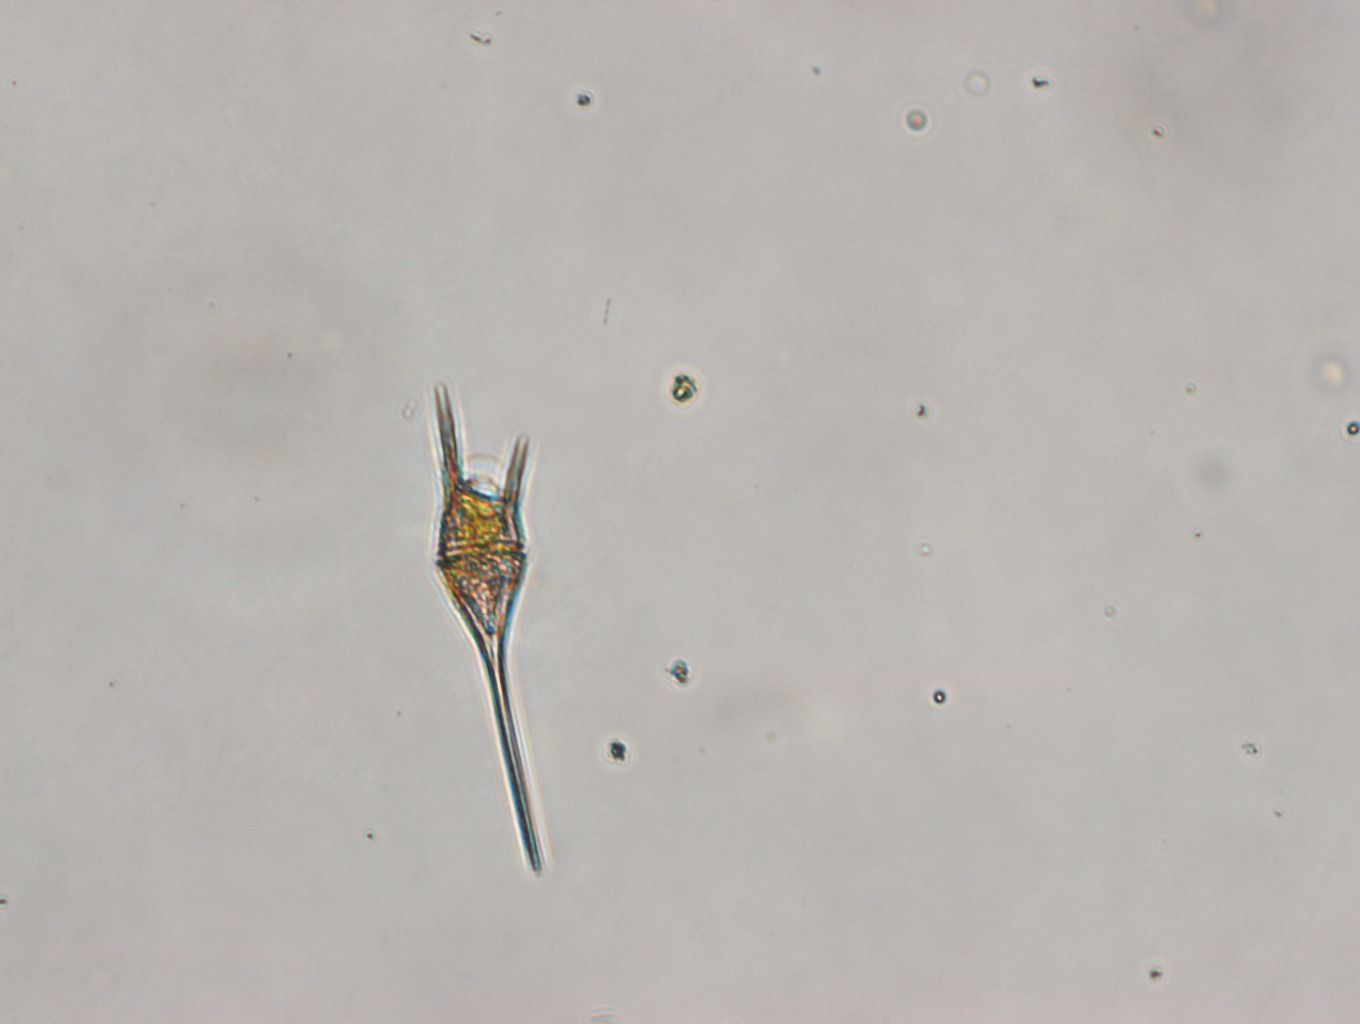ceratium tripos: (430, 378, 545, 876)
